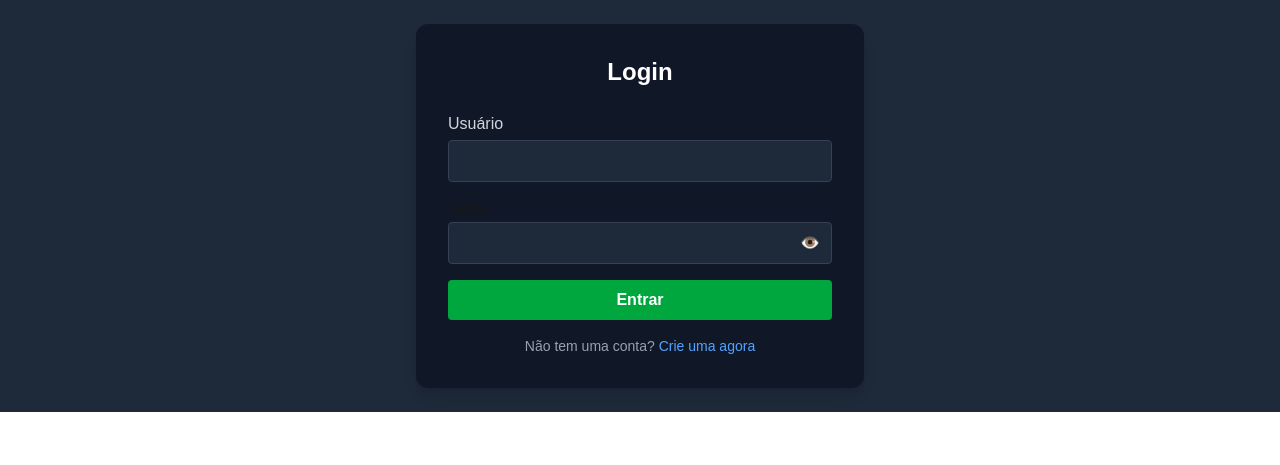
Test case: LoginForm › mostra erro se login falhar
The image size is (1280, 465).
Type "john" into the field labelled "Usuário" at (640, 161), box x1=448 y1=140 x2=832 y2=182
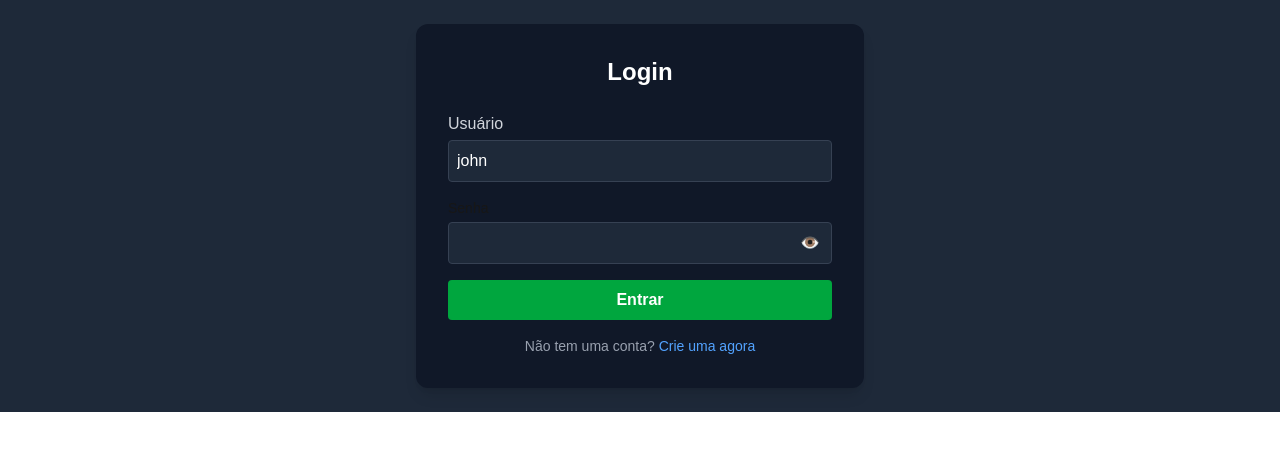
Type "wrong" into the password field labelled "Senha" at (640, 243), box x1=448 y1=222 x2=832 y2=264
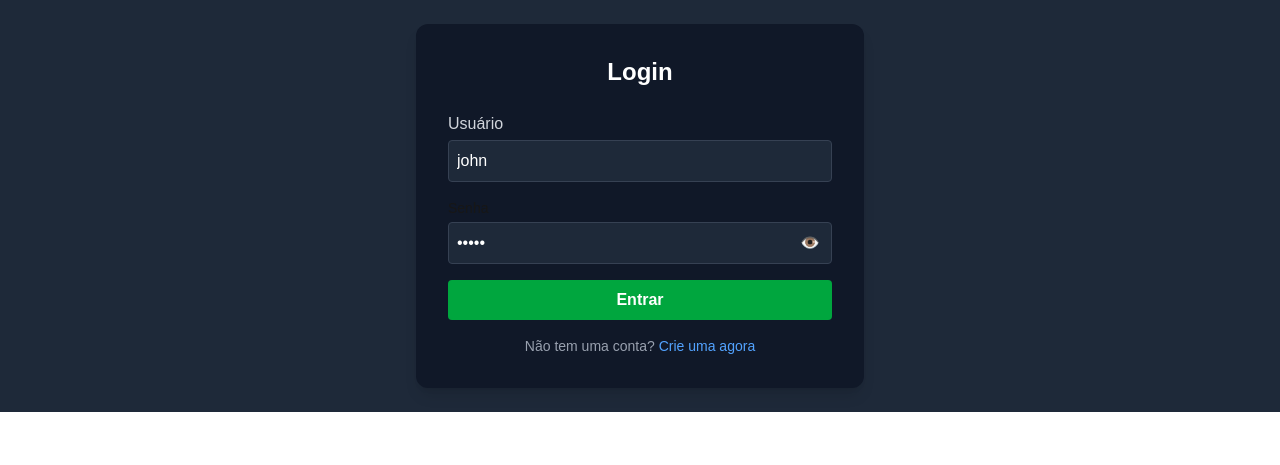
Click the button "Entrar" at (640, 300), box x1=448 y1=280 x2=832 y2=320
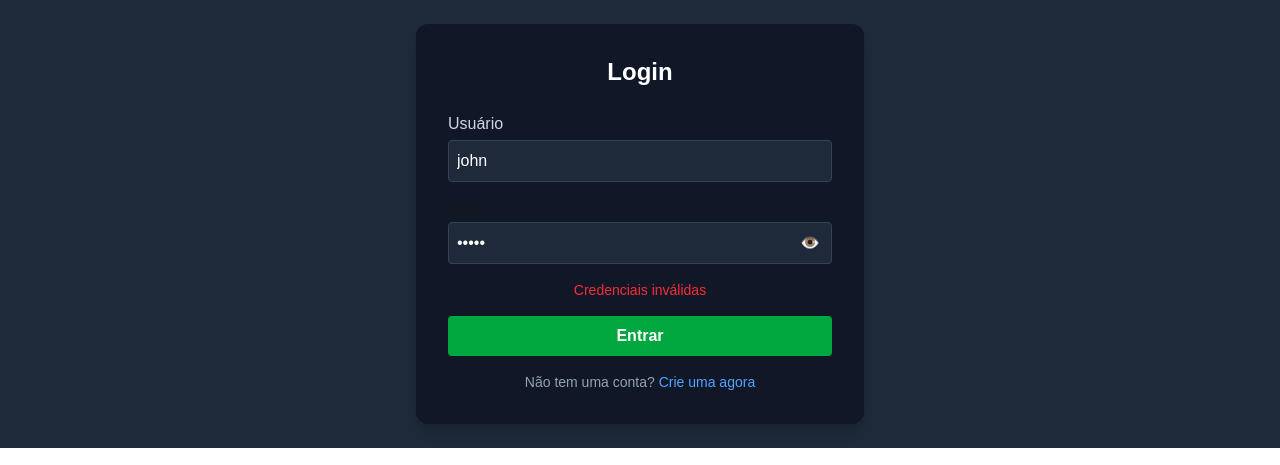
Expected: the text "Credenciais inválidas" is shown, x1=574 y1=282 x2=706 y2=298
